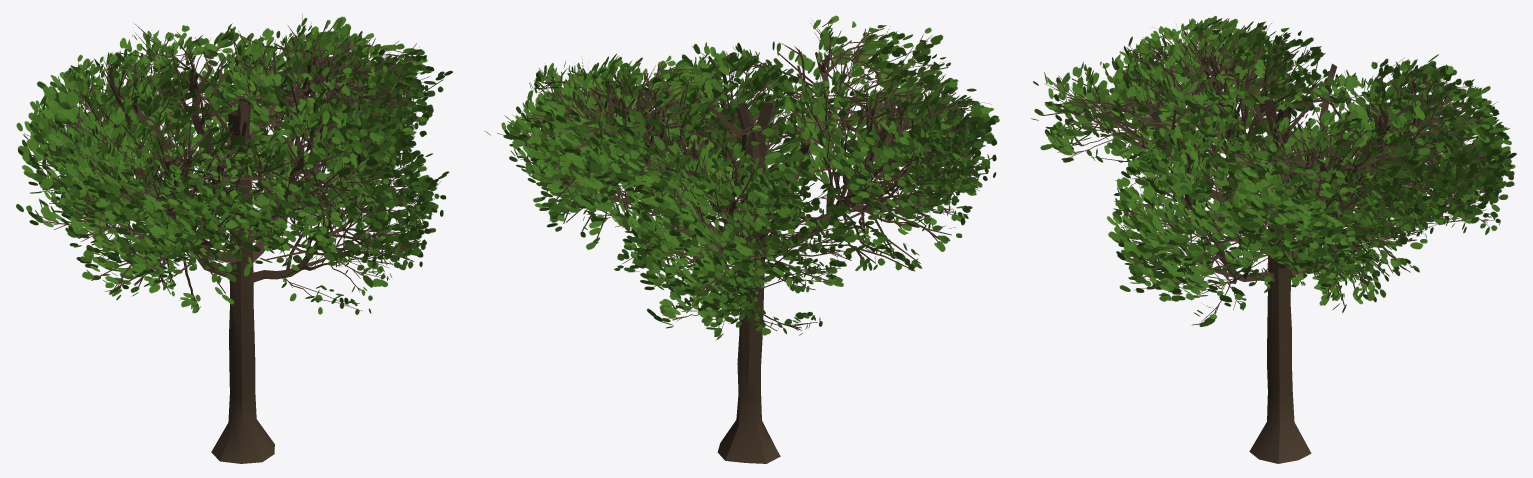
The picture shows the model from 3 angles, left to right: view 1: azimuth 30°, elevation 25°; view 2: azimuth 150°, elevation 25°; view 3: azimuth 270°, elevation 25°; orthographic projection.
Visible parts, largest first — view 1: oak 01.001_trunk_Mat.001_0.038; view 2: oak 01.001_trunk_Mat.001_0.038; view 3: oak 01.001_trunk_Mat.001_0.038.
Part boxes in pixels (bbox=[...]): oak 01.001_trunk_Mat.001_0.038: bbox=[16, 14, 452, 463]; oak 01.001_trunk_Mat.001_0.038: bbox=[484, 15, 999, 463]; oak 01.001_trunk_Mat.001_0.038: bbox=[1031, 16, 1516, 463].
Size of the model in its own units: 4.83 by 4.12 by 5.01.
Materials: 2 (1 with a texture image).
